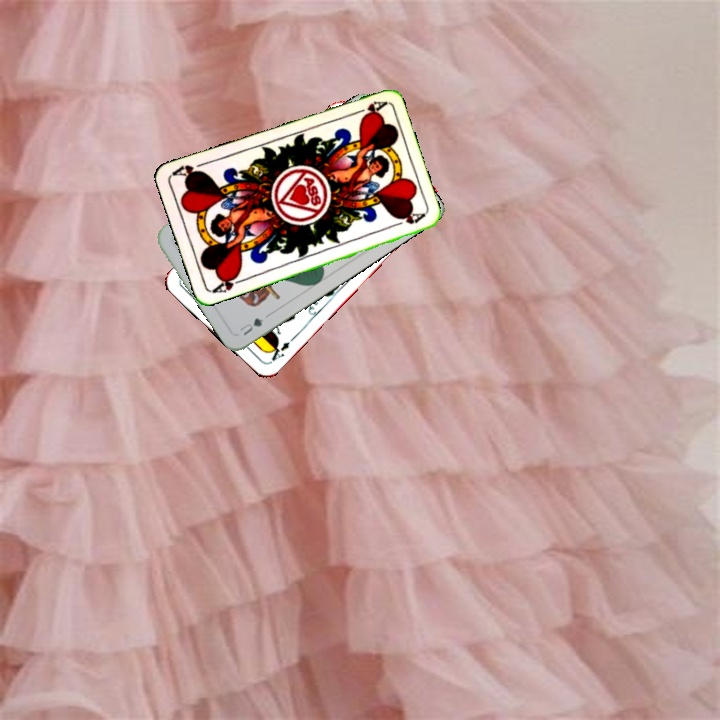EA: (263, 337, 292, 366)
GU: (236, 314, 266, 338)
HA: (209, 269, 248, 296), (348, 96, 388, 121)
